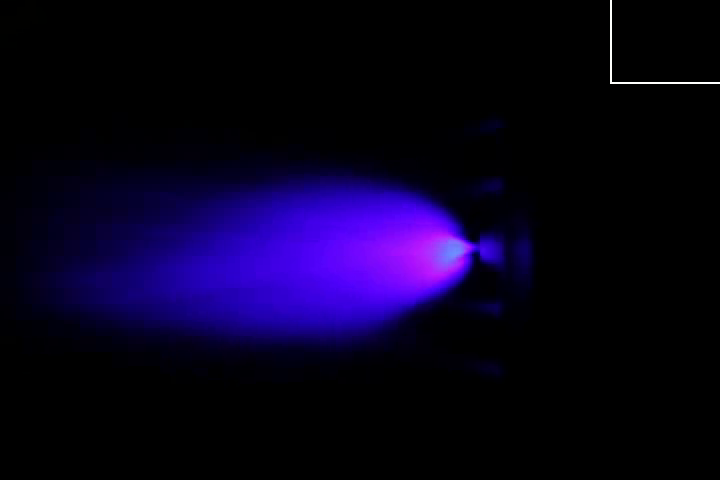burner cap: (475, 230, 505, 269)
stable: (411, 226, 479, 280)
